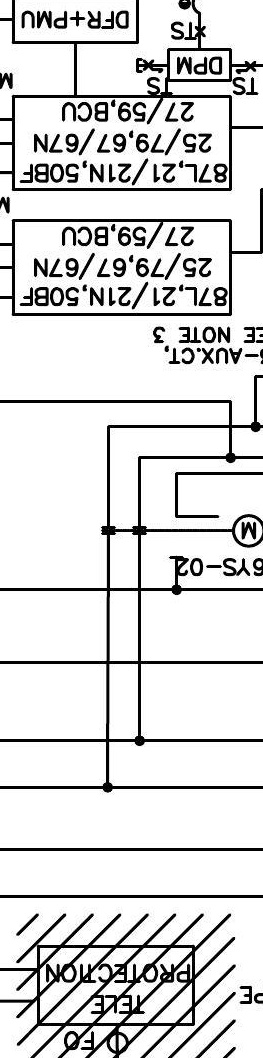DPM: (165, 47, 233, 83)
tele_protection: (34, 942, 198, 1029)
